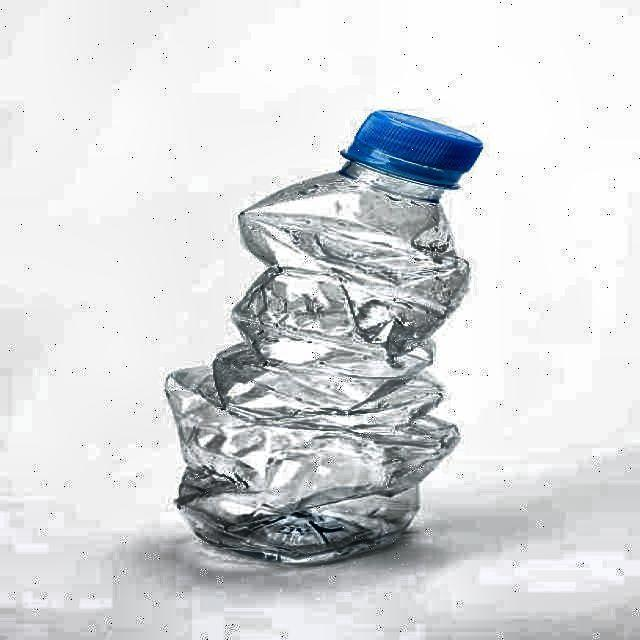plastic: (162, 109, 485, 569)
